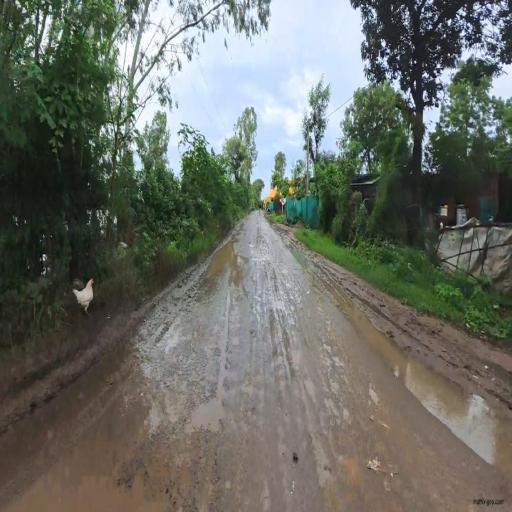ravelling: (138, 249, 409, 501)
